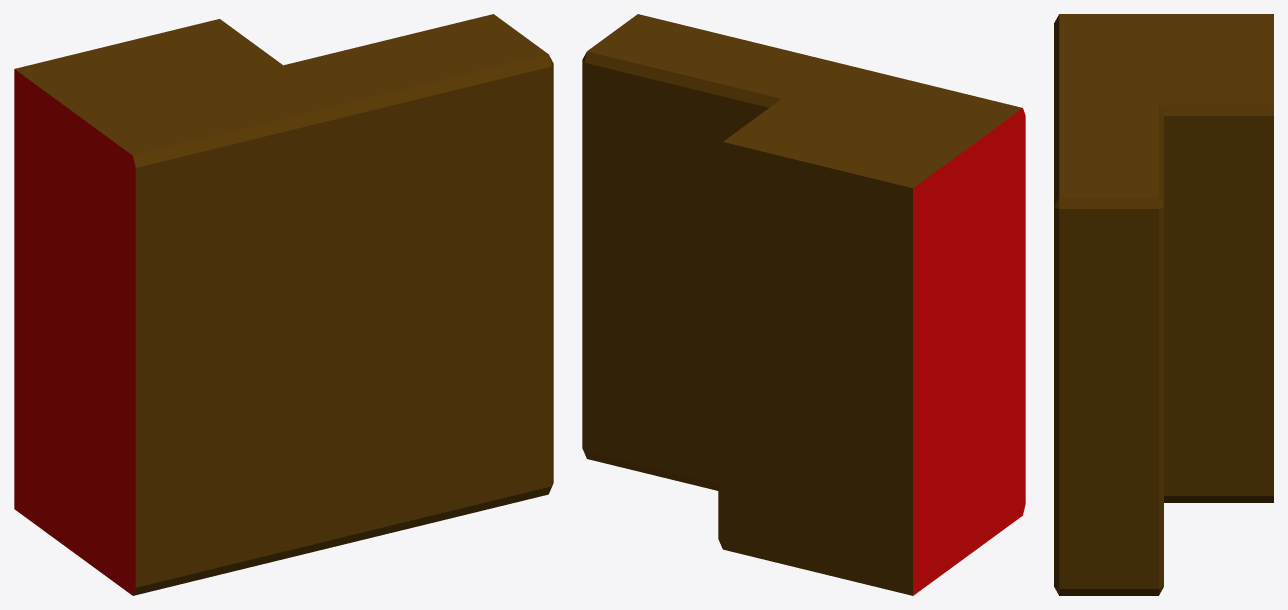
File: tahta (1).fbx
3 views of the same model, side by side, from view 1: azimuth 30°, elevation 25°; view 2: azimuth 150°, elevation 25°; view 3: azimuth 270°, elevation 25° (orthographic). The views are drawn at different scales.
Parts seen in each view (by area): view 1: Cube; view 2: Cube; view 3: Cube.
Boxes of the visible parts, x1=… form: Cube: x1=14, y1=14, x2=553, y2=595; Cube: x1=582, y1=14, x2=1025, y2=595; Cube: x1=1054, y1=14, x2=1273, y2=595.
Size of the model in its own units: 400 by 400 by 200.
